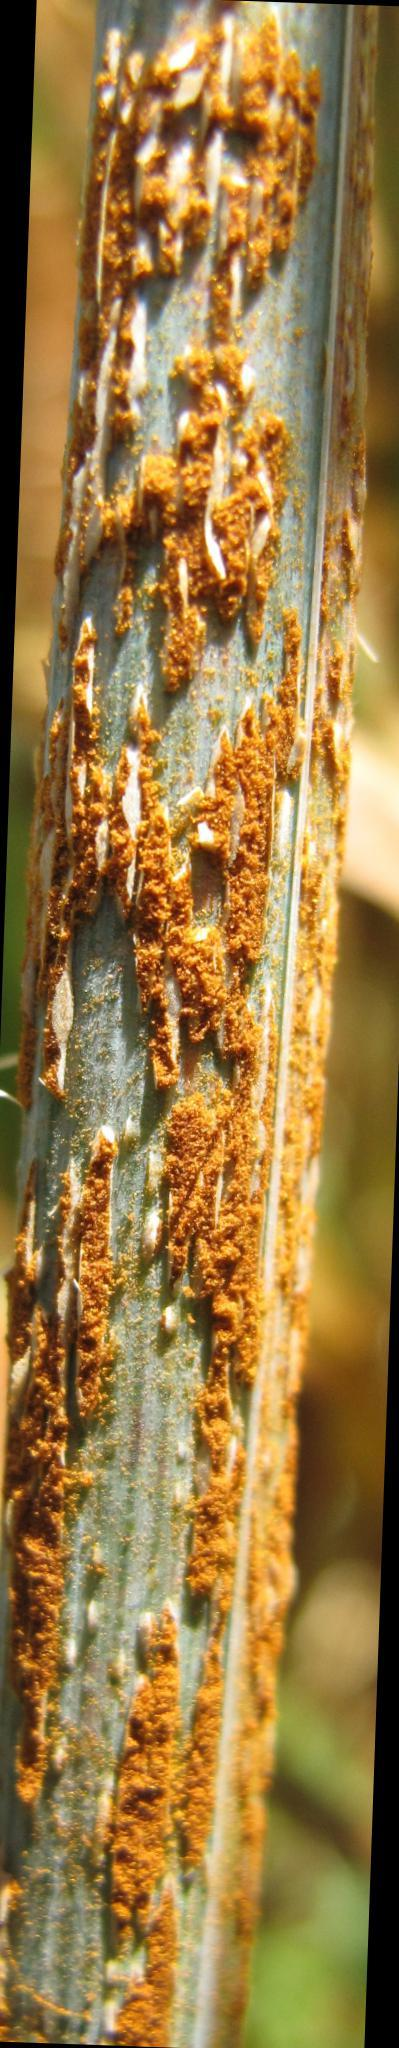Wheat: (109, 39, 345, 808), (29, 1279, 288, 1724), (39, 824, 314, 1234), (14, 1729, 204, 2009)
